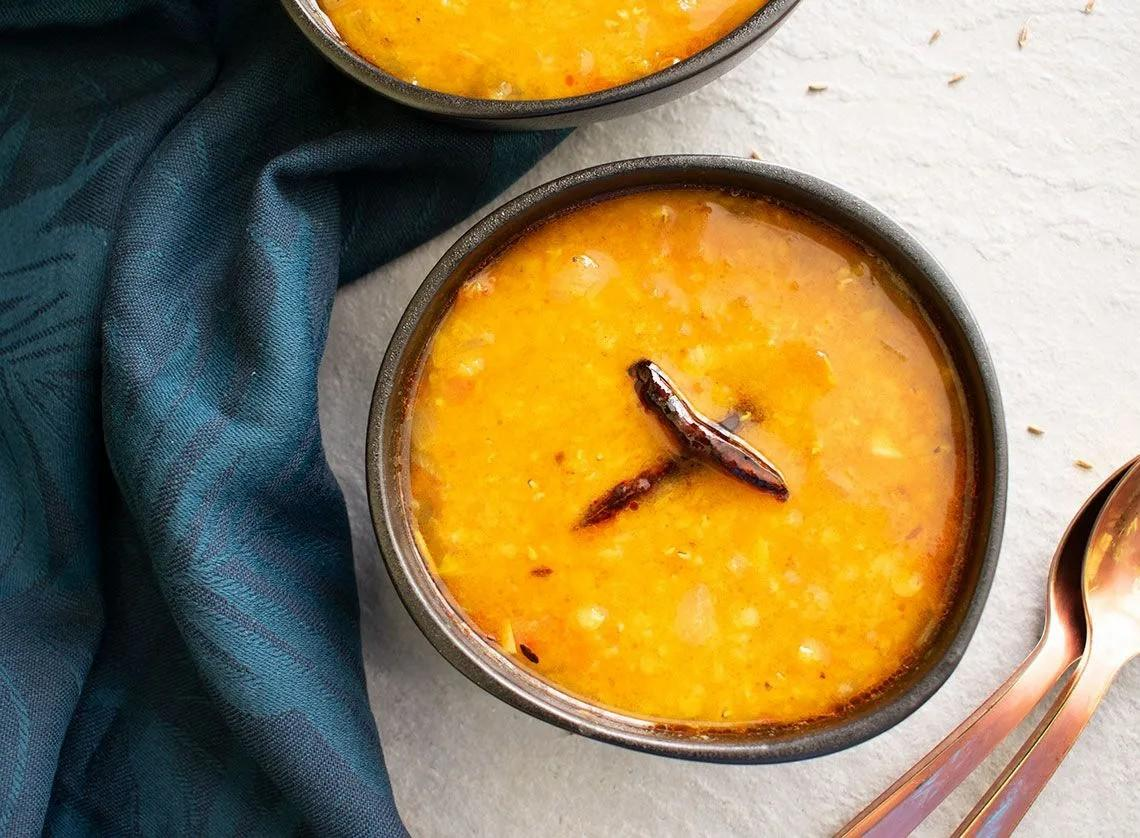Dal: (414, 195, 967, 723), (320, 0, 764, 98)
